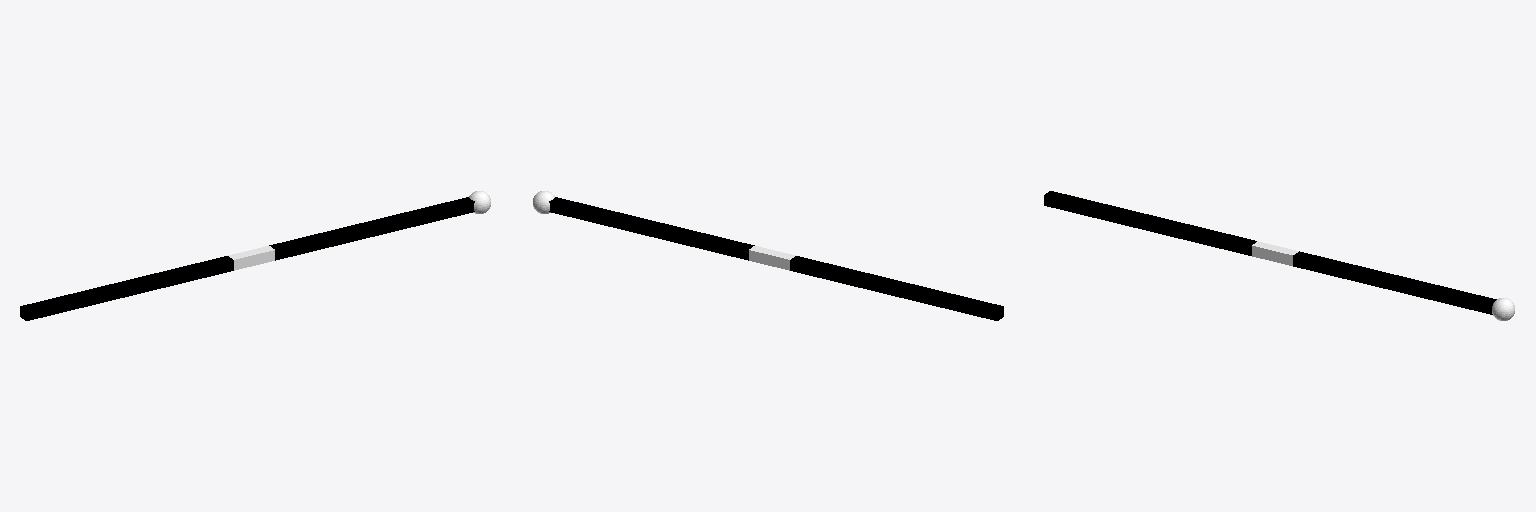
URDF robot description (rolling_joint):
<robot name="rolling_joint">

    <material name="black">
        <color rgba="0 0 0 0.7"/>
    </material>
    <material name="white">
        <color rgba="1 1 1 0.7"/>
    </material>

    <link name="world">
        <inertial>
            <origin xyz="0 0 0" rpy="0 0 0" />
            <mass value="1." />
            <inertia iyy="0.01" ixy="0.01" iyz="0.01" ixx="0.01" ixz="0.01" izz="0.1" />
        </inertial>
    </link>

    <link name="l1">
        <inertial>
            <origin xyz="0.5 0 0" rpy="0 0 0" />
            <mass value="1." />
            <inertia iyy="0.01" ixy="0.01" iyz="0.01" ixx="0.01" ixz="0.01" izz="0.1" />
        </inertial>
        <visual>
            <geometry>
                <box size="1 .05 .05"/>
            </geometry>
            <origin rpy="0 0 0" xyz="0.5 0 0"/>
            <material name="black"/>
        </visual>
    </link>

    <!--<joint name="j0" type="fixed">-->
        <!--<axis rpy="0 0 0" xyz="0 0 1"/>-->
        <!--<parent link="world"/>-->
        <!--<child link="l1"/>-->
    <!--</joint>-->

    <joint name="j0" type="revolute">
        <axis rpy="0 0 0" xyz="0 0 1"/>
        <parent link="world"/>
        <child link="l1"/>
        <origin rpy="0 0 0" xyz="1 0 0"/>
        <limit effort="150.0" lower="-6.28318530718" upper="6.28318530718" velocity="3.15"/>
    </joint>

    <link name="l2">
        <inertial>
            <origin xyz="0.1 0 0" rpy="0 0 0" />
            <mass value="1." />
            <inertia iyy="0.01" ixy="0.01" iyz="0.01" ixx="0.01" ixz="0.01" izz="0.1" />
        </inertial>
        <visual>
            <geometry>
                <box size="0.2 .05 .05"/>
            </geometry>
            <origin rpy="0 0 0" xyz="0.1 0 0"/>
            <material name="white"/>
        </visual>
    </link>

    <joint name="j1" type="revolute">
        <axis rpy="0 0 0" xyz="0 0 1"/>
        <parent link="l1"/>
        <child link="l2"/>
        <origin rpy="0 0 0" xyz="1 0 0"/>
        <limit effort="150.0" lower="-6.28318530718" upper="6.28318530718" velocity="3.15"/>
    </joint>

    <link name="l3">
        <inertial>
            <origin xyz="0.5 0 0" rpy="0 0 0" />
            <mass value="1." />
            <inertia iyy="0.01" ixy="0.01" iyz="0.01" ixx="0.01" ixz="0.01" izz="0.1" />
        </inertial>
        <visual>
            <geometry>
                <box size="1 .05 .05"/>
            </geometry>
            <origin rpy="0 0 0" xyz="0.5 0 0"/>
            <material name="black"/>
        </visual>
    </link>

    <joint name="j2" type="revolute">
        <axis rpy="0 0 0" xyz="0 0 1"/>
        <parent link="l2"/>
        <child link="l3"/>
        <origin rpy="0 0 0" xyz="0.2 0 0"/>
        <limit effort="150.0" lower="-6.28318530718" upper="6.28318530718" velocity="3.15"/>
    </joint>

    <link name="ee">
        <inertial>
            <origin xyz="0.0 0 0" rpy="0 0 0" />
            <mass value="0.001" />
            <inertia iyy="0.0001" ixy="0.0001" iyz="0.0001" ixx="0.0001" ixz="0.0001" izz="0.0001" />
        </inertial>
        <visual>
            <geometry>
                <sphere radius="0.05"/>
            </geometry>
            <origin rpy="0 0 0" xyz="0 0 0"/>
            <material name="white"/>
        </visual>
    </link>

    <joint name="ee_joint" type="fixed">
        <parent link="l3"/>
        <child link="ee"/>
        <origin rpy="0 0 0" xyz="1.0 0 0"/>
    </joint>

</robot>

--- What the picture shows (computed from the rendered views, not written in the file) ---
Views: 3 orthographic renders of the robot side by side, from view 1: azimuth 30°, elevation 25°; view 2: azimuth 150°, elevation 25°; view 3: azimuth 330°, elevation 25°.
Model rolling_joint with 5 links and 4 joints (3 revolute, 1 fixed), rooted at world, posed all joints at 0.
Links seen in each view (by area): view 1: l1, l3, l2; view 2: l1, l3, l2; view 3: l1, l3, l2.
Boxes of the visible links, x1,y1,x2,y2 form: l1: (20, 256, 233, 320); l3: (269, 197, 474, 260); l2: (228, 246, 274, 270); l1: (790, 256, 1003, 320); l3: (549, 197, 754, 260); l2: (749, 246, 795, 270); l1: (1044, 191, 1256, 255); l3: (1293, 251, 1496, 314); l2: (1252, 241, 1298, 265).
Bounding box of the posed robot: 2.25 × 0.1 × 0.1 m (x, y, z).
Geometry: primitives only (box / cylinder / sphere), no mesh files.
